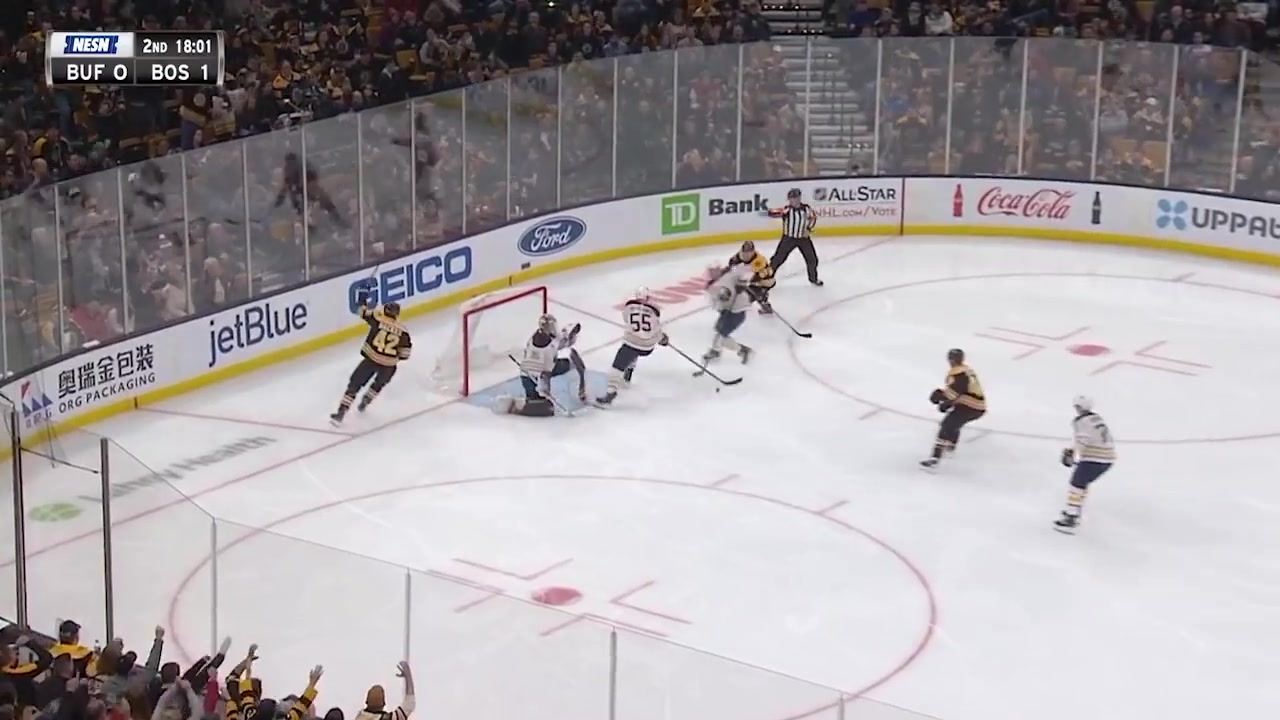Geico: (353, 238, 479, 318)
